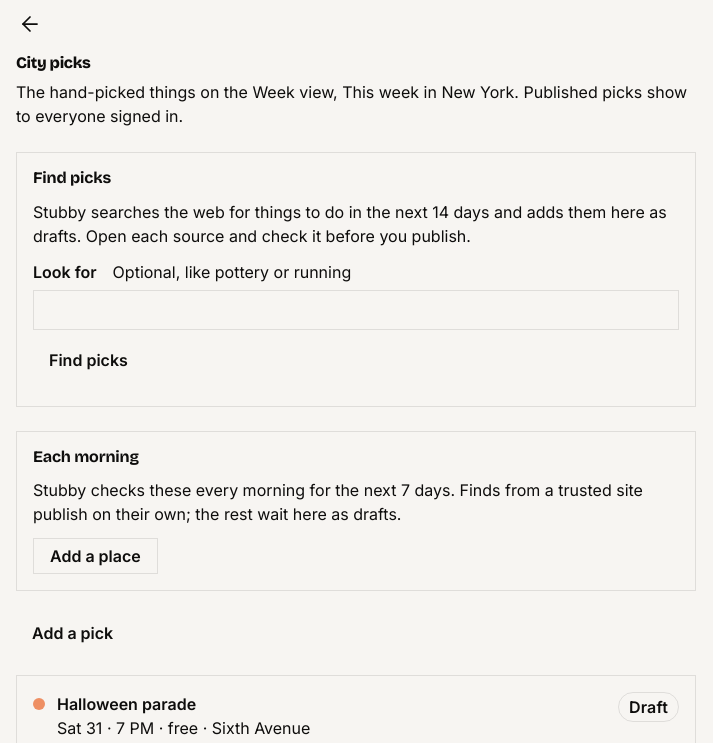
Test case: AdminCityPicks › shows the scout's error and does not reload
Expected: the text "Halloween parade" is shown, top-left (57, 694), bottom-right (196, 714)
Click the button "Find picks". click: {"x": 88, "y": 360}
box: top-left (33, 342), bottom-right (144, 378)
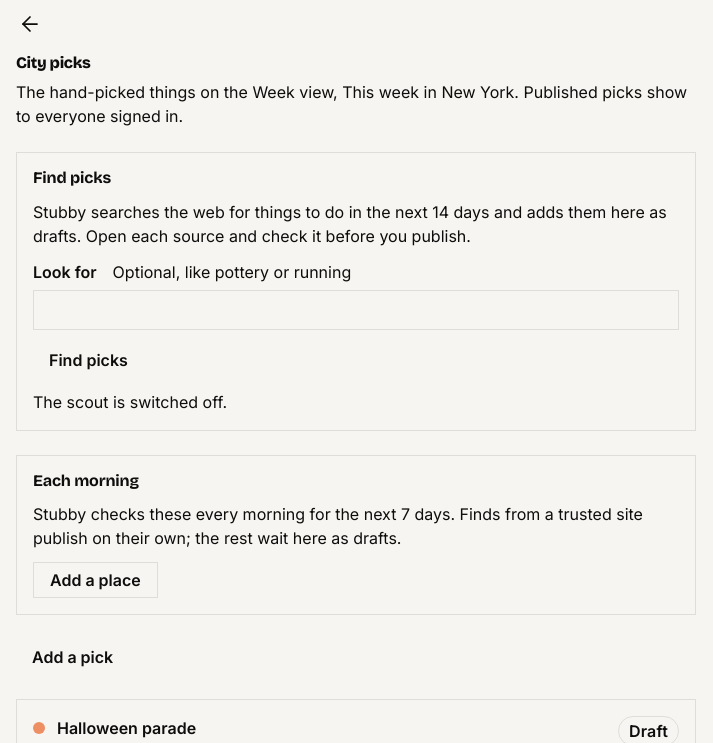
Expected: the message reads "The scout is switched off.", top-left (33, 392), bottom-right (227, 412)
